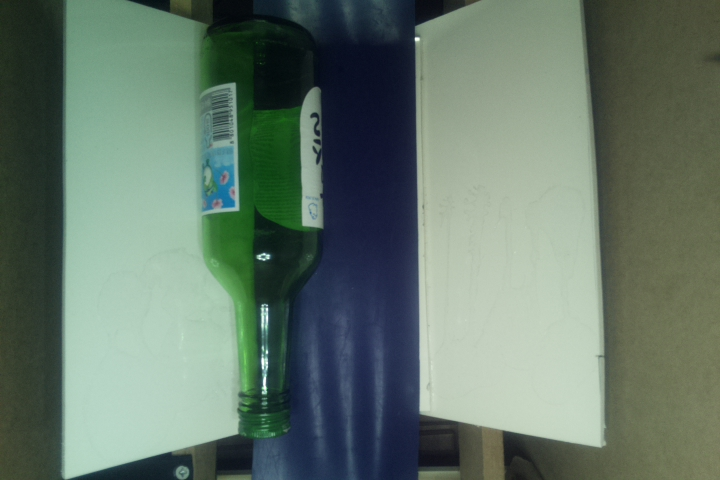soju: (198, 15, 324, 445)
